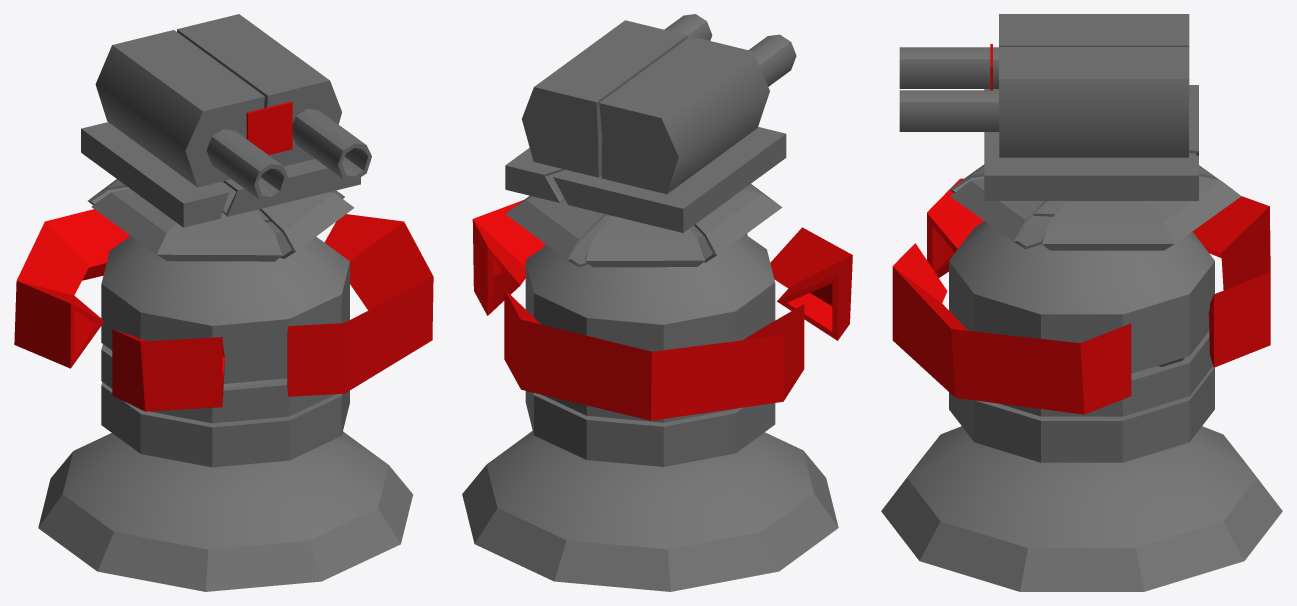
The model's file is Minion_Med_Broken.fbx.
3 views of the same model, side by side, from view 1: azimuth 30°, elevation 25°; view 2: azimuth 150°, elevation 25°; view 3: azimuth 270°, elevation 25° (orthographic). The views are drawn at different scales.
Parts seen in each view (by area): view 1: Body1, polySurface21, polySurface17, polySurface9, polySurface20, polySurface18, polySurface10, polySurface19, polySurface14, polySurface11, polySurface22, polySurface5 (+4 smaller); view 2: Body1, polySurface18, polySurface21, polySurface9, polySurface10, polySurface20, polySurface11, polySurface19, polySurface17, polySurface16, polySurface13, polySurface14 (+4 smaller); view 3: Body1, polySurface21, polySurface10, polySurface17, polySurface20, polySurface12, polySurface18, polySurface13, polySurface9, polySurface8, polySurface5, polySurface22 (+4 smaller).
Boxes of the visible parts, box(x1,y1,x2,y2) form: Body1: box(38, 431, 413, 591); polySurface21: box(101, 222, 349, 383); polySurface17: box(287, 214, 433, 396); polySurface9: box(95, 30, 264, 187); polySurface20: box(101, 378, 349, 467); polySurface18: box(14, 209, 130, 368); polySurface10: box(177, 14, 341, 166); polySurface19: box(112, 329, 224, 411); polySurface14: box(91, 188, 282, 261); polySurface11: box(81, 122, 228, 227); polySurface22: box(101, 344, 335, 423); polySurface5: box(206, 129, 287, 201); Body1: box(462, 431, 838, 591); polySurface18: box(504, 289, 804, 420); polySurface21: box(525, 234, 775, 351); polySurface9: box(599, 36, 769, 194); polySurface10: box(522, 20, 687, 177); polySurface20: box(525, 391, 775, 466); polySurface11: box(553, 127, 786, 232); polySurface19: box(770, 227, 852, 340); polySurface17: box(472, 200, 747, 315); polySurface16: box(585, 216, 705, 267); polySurface13: box(505, 196, 611, 267); polySurface14: box(689, 184, 782, 262); Body1: box(881, 426, 1282, 591); polySurface21: box(949, 221, 1214, 373); polySurface10: box(999, 47, 1189, 157); polySurface17: box(892, 243, 1131, 414); polySurface20: box(949, 357, 1214, 462); polySurface12: box(984, 132, 1198, 200); polySurface18: box(1192, 196, 1270, 367); polySurface13: box(1041, 176, 1241, 250); polySurface9: box(999, 14, 1189, 46); polySurface8: box(899, 90, 999, 131); polySurface5: box(899, 47, 998, 88); polySurface22: box(999, 331, 1212, 416).
Size of the model in its own units: 1.47 by 1.8 by 1.4.
